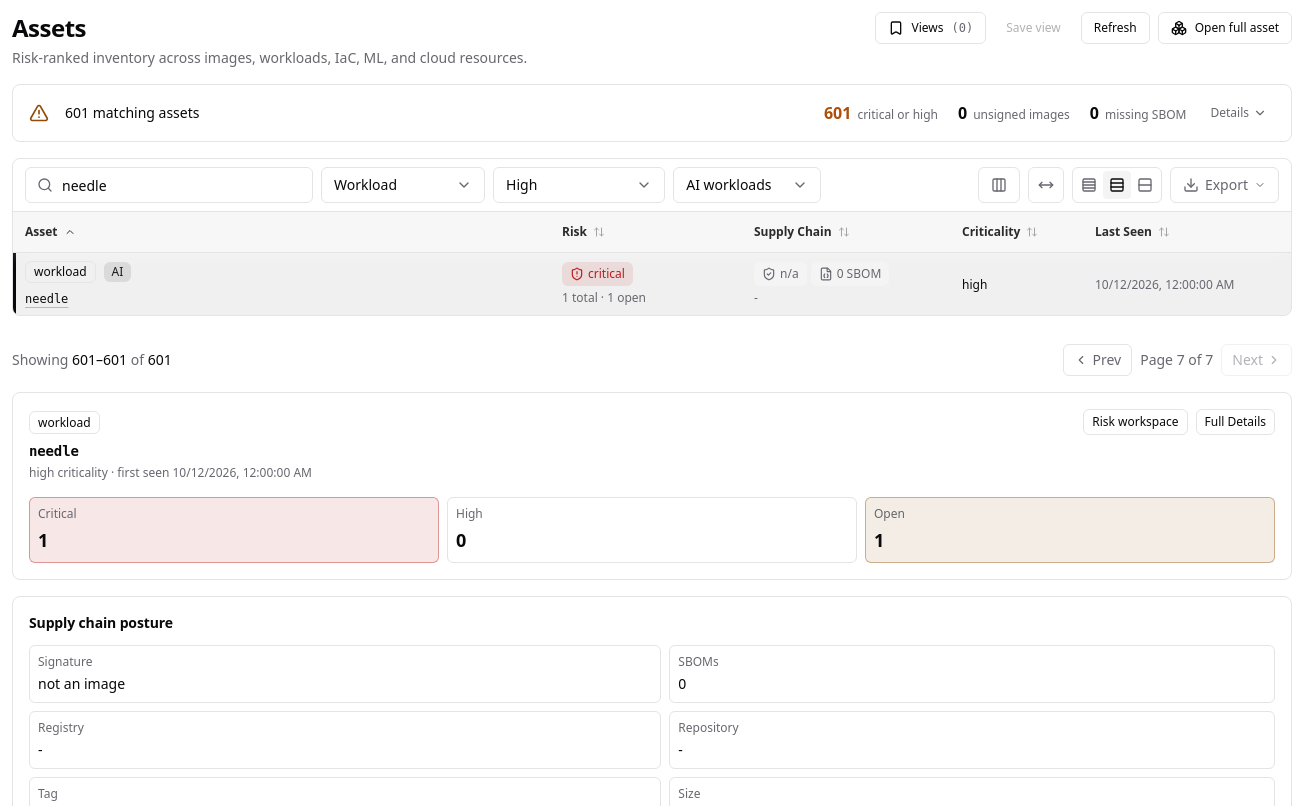
it: loads an exact filtered inventory beyond500 and sends its cohort to full export
Press Enter in the button "Export", box [1170,167,1279,203]
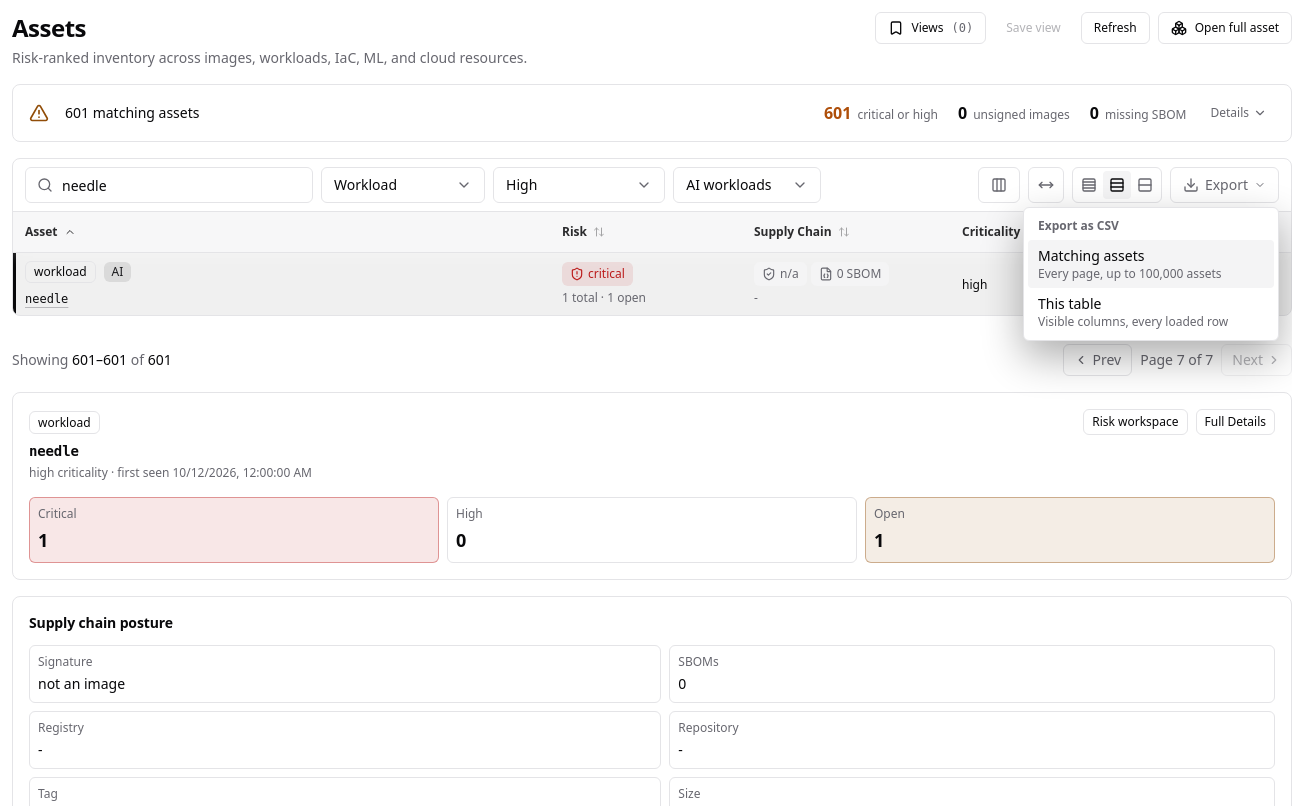
Click the menu item "Matching assets Every page, up to 100,000 assets": (1151, 264) [1028,240,1274,288]
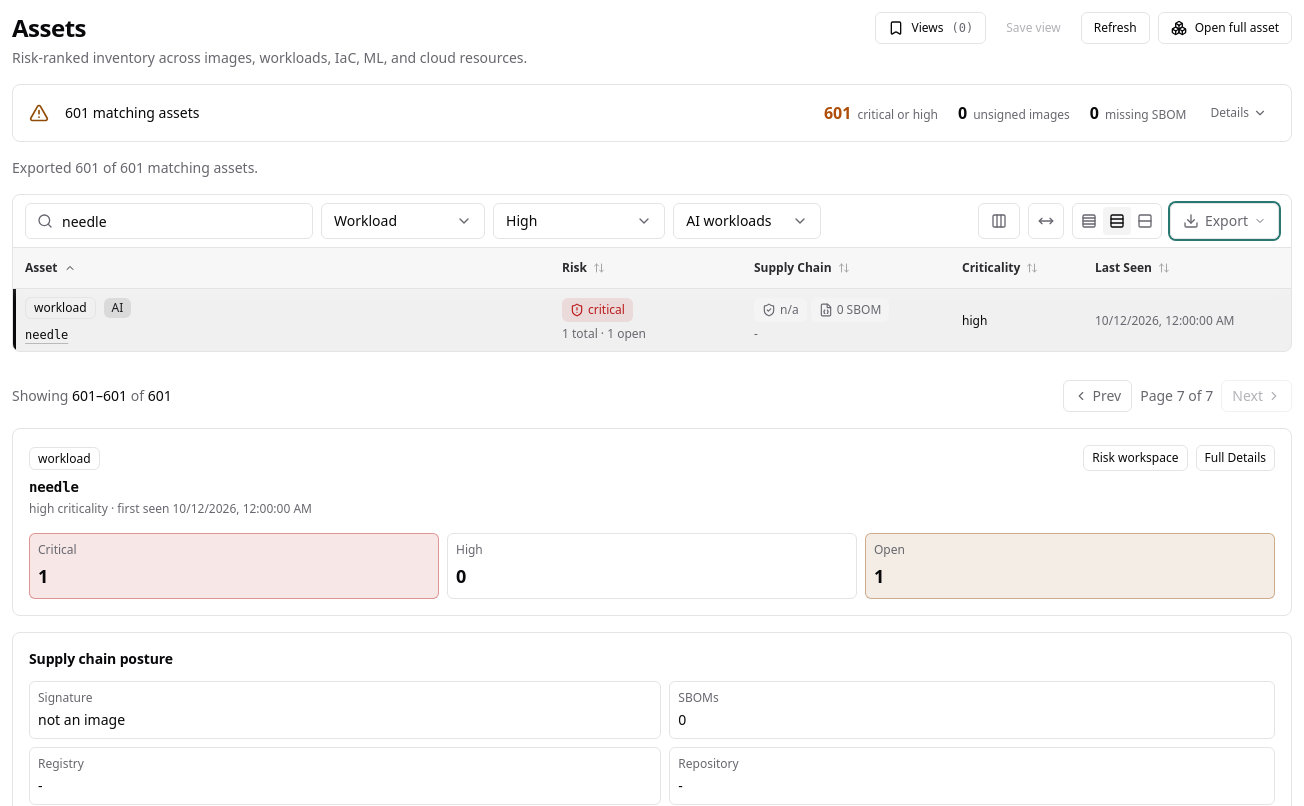
Now the text "Exported 601 of 601" is shown, box [12,158,258,177]
